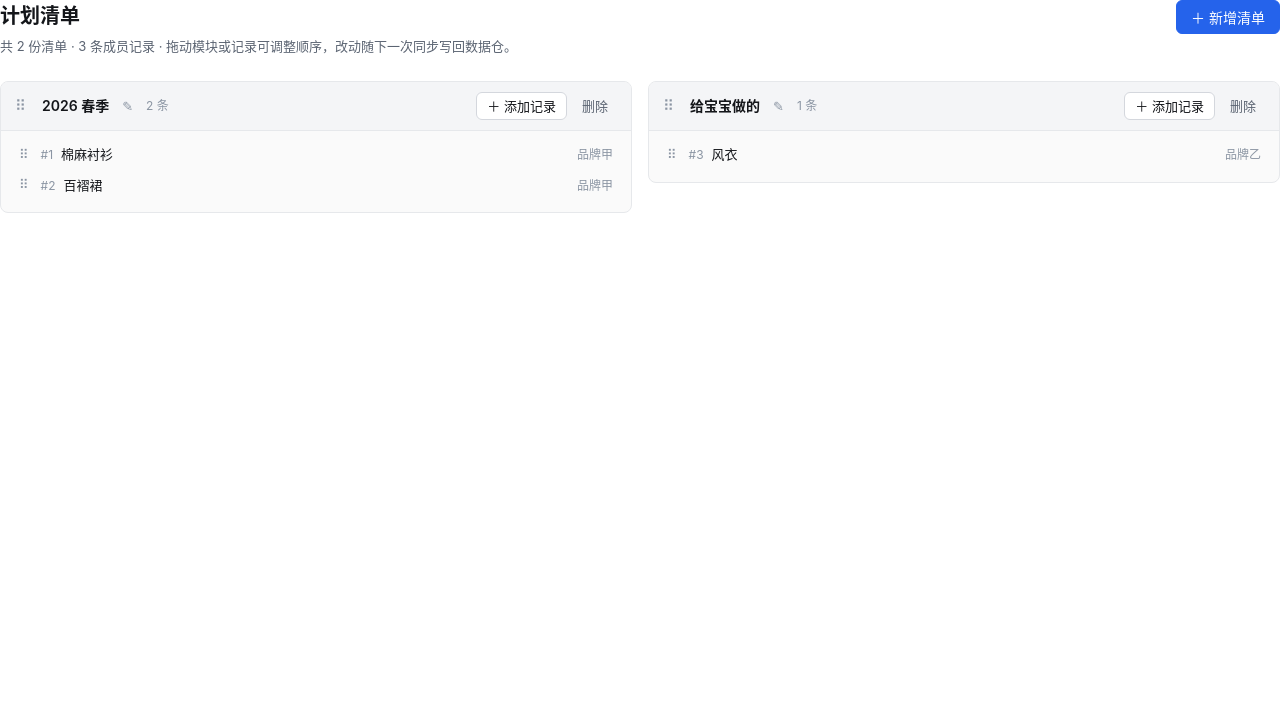
Test case: v6.9 · 条目「加入其他清单」（迁移语义） › 点目标清单选项 → 回调 moveRecordToPlan(当前清单, 目标清单, 记录)，弹层关闭
This screenshot has width=1280, height=720.
Right-click the list item with test id "iw-plan-card-row-p1-1" at point(87, 154), box [19,146,613,162]
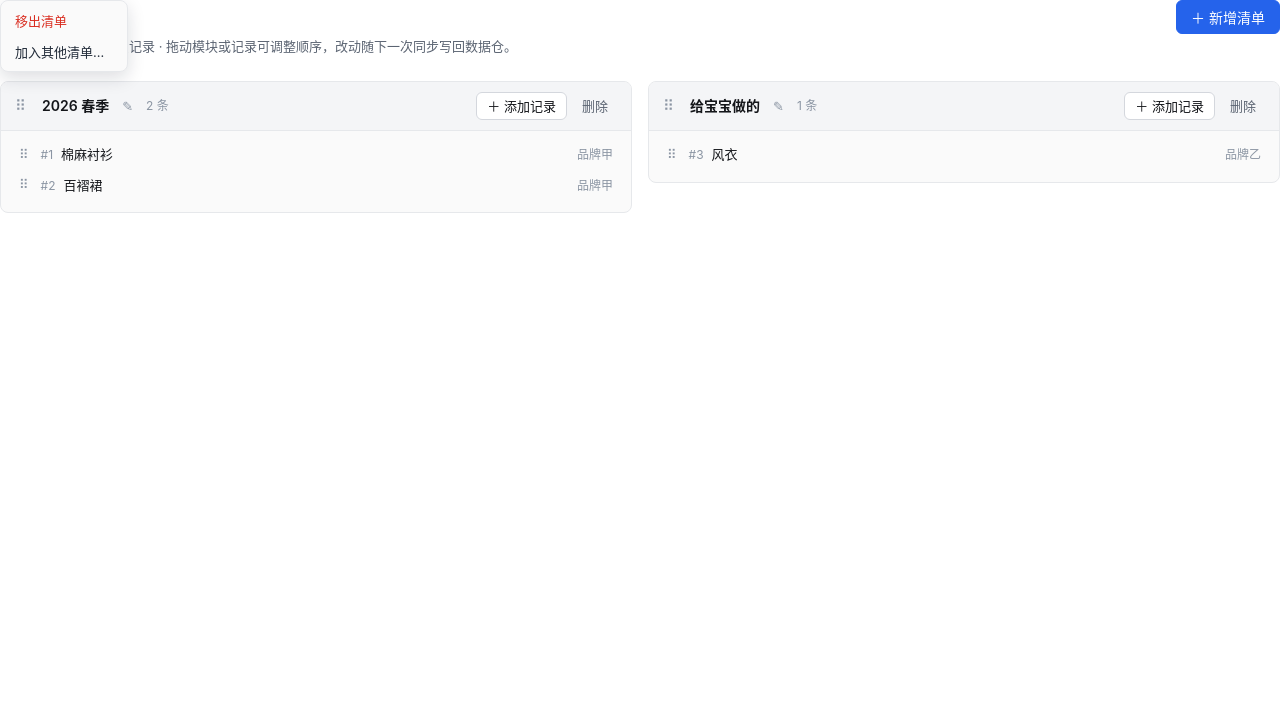
Click the menu item with test id "iw-plan-ctx-move" at point(64, 52), box [5,36,123,67]
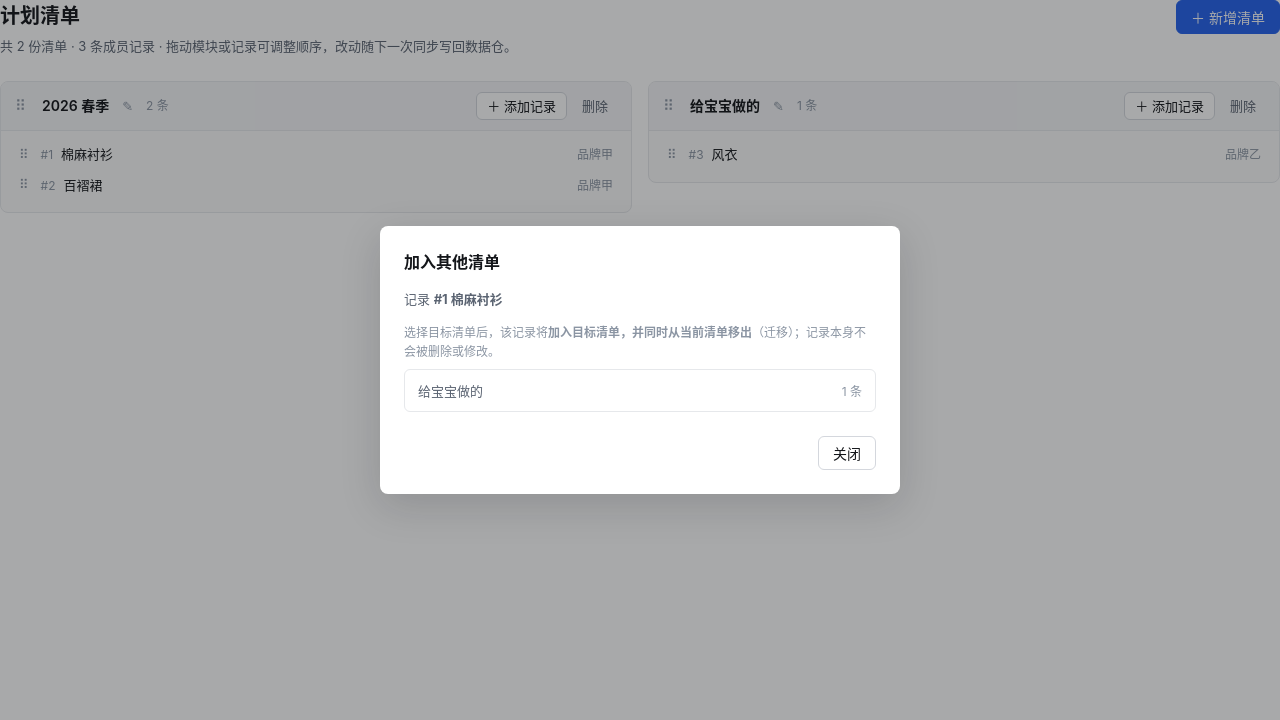
Click the button with test id "iw-plan-move-option-p2" at point(451, 391), box [411,376,869,405]
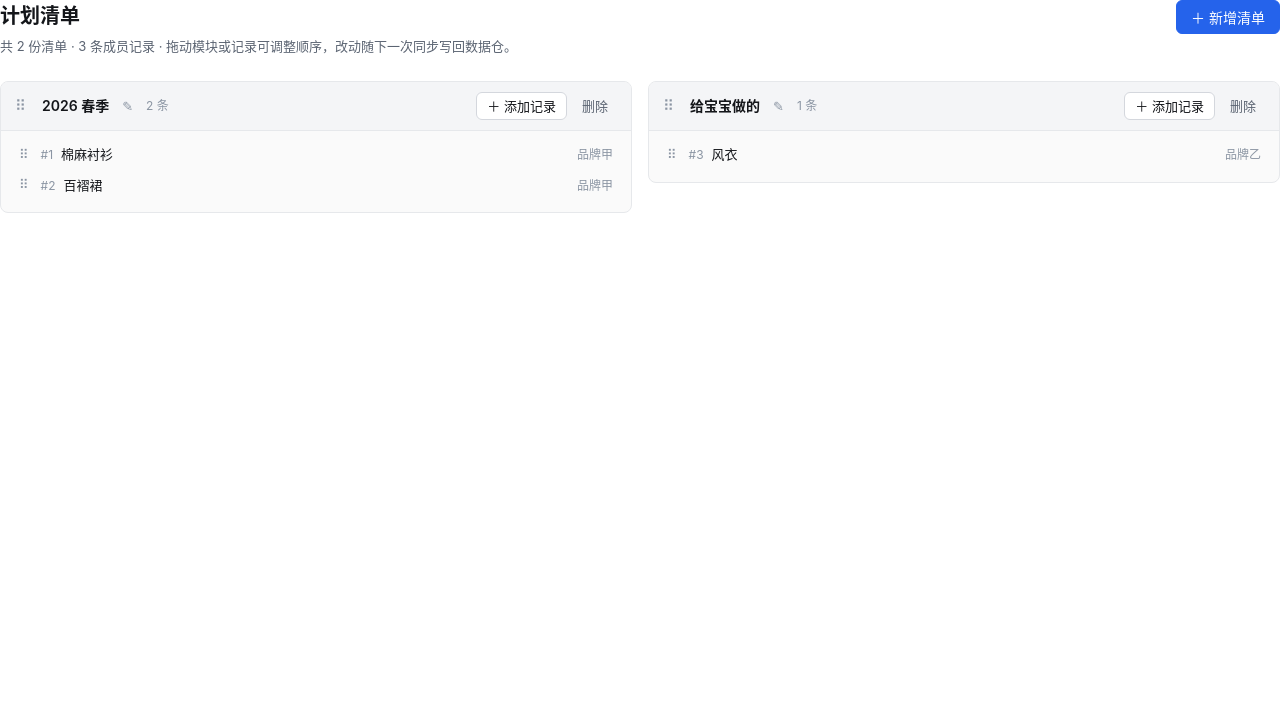
Expected: the button with test id "iw-plan-move-option-p2" is gone
